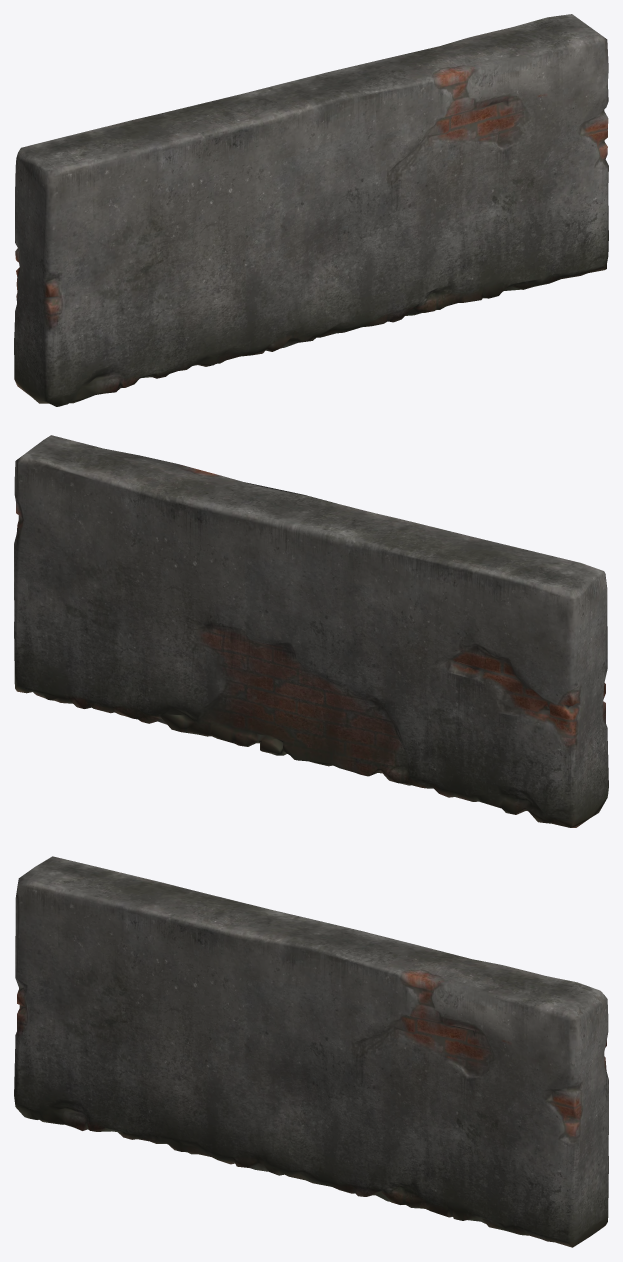
File: wall-damaged.glb
3 renders of one model, top to bottom at view 1: azimuth 30°, elevation 25°; view 2: azimuth 150°, elevation 25°; view 3: azimuth 330°, elevation 25°, orthographic.
Visible parts, largest first — view 1: Object_2; view 2: Object_2; view 3: Object_2.
Part boxes in pixels (box(x1,y1,x2,y2)): Object_2: box(14, 14, 608, 406); Object_2: box(14, 435, 608, 827); Object_2: box(14, 856, 608, 1247).
Size of the model in its own units: 200 by 82.13 by 24.56.
1 material, 1 textured.
